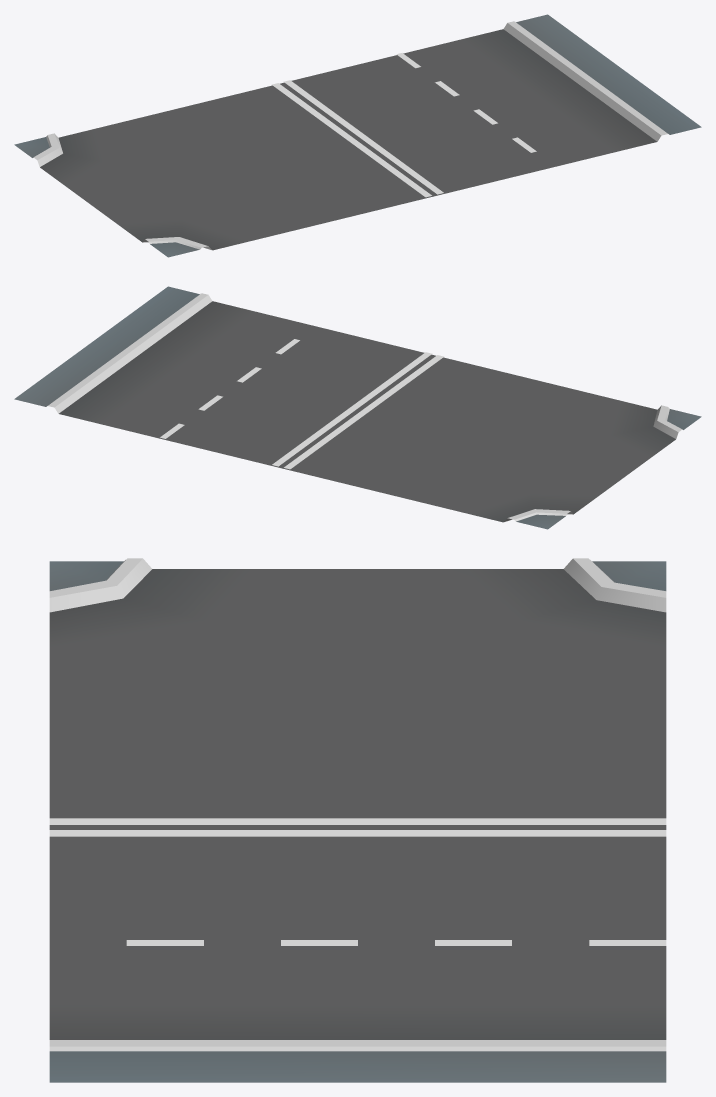
The model's file is OnewayRoad03.fbx.
3 views of the same model, one above another, from view 1: azimuth 30°, elevation 25°; view 2: azimuth 150°, elevation 25°; view 3: azimuth 270°, elevation 25° (orthographic). The views are drawn at different scales.
Visible parts, largest first — view 1: SRoad02.001; view 2: SRoad02.001; view 3: SRoad02.001.
Boxes of the visible parts, bbox=[...] form: SRoad02.001: bbox=[14, 14, 701, 257]; SRoad02.001: bbox=[14, 286, 701, 529]; SRoad02.001: bbox=[49, 558, 666, 1082].
Bounding box in the file's own units: 6 × 0.057 × 3.
